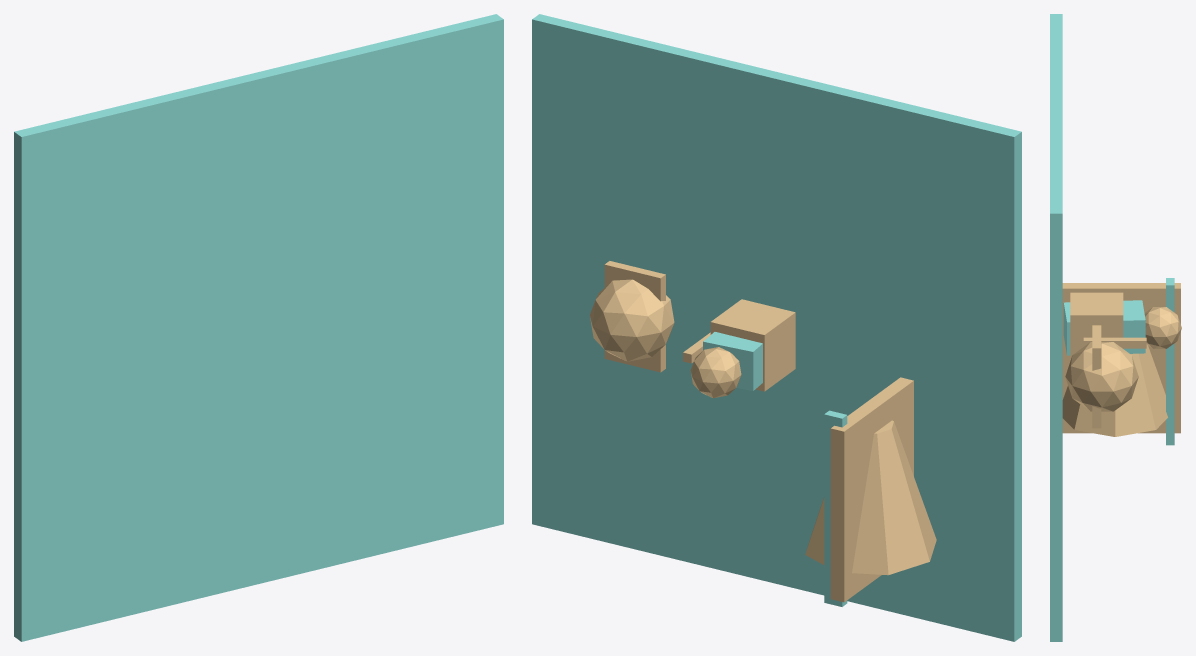
File: tombs-of-atlantis-kit.glb
3 views of the same model, side by side, from view 1: azimuth 30°, elevation 25°; view 2: azimuth 150°, elevation 25°; view 3: azimuth 270°, elevation 25° (orthographic). The views are drawn at different scales.
Parts seen in each view (by area): view 1: ENVIRONMENT_GROUND; view 2: ENVIRONMENT_GROUND, ENVIRONMENT_LANDMARK, PROFILE_ENVIRONMENT_DETAIL, OBSTACLE, PROFILE_PLAYER_DETAIL, PLAYER_HEAD, PROFILE_OBSTACLE_DETAIL, PLAYER_BODY, PROFILE_ENVIRONMENT_TRIM; view 3: ENVIRONMENT_GROUND, ENVIRONMENT_LANDMARK, OBSTACLE, PROFILE_ENVIRONMENT_DETAIL, PROFILE_PLAYER_DETAIL, PLAYER_BODY, PLAYER_HEAD, PROFILE_ENVIRONMENT_TRIM, PROFILE_OBSTACLE_DETAIL, PLAYER_TOOL.
Boxes of the visible parts, left/top/right/bottom form: ENVIRONMENT_GROUND: left=14, top=14, right=503, bottom=641; ENVIRONMENT_GROUND: left=532, top=14, right=1021, bottom=641; ENVIRONMENT_LANDMARK: left=805, top=420, right=936, bottom=575; PROFILE_ENVIRONMENT_DETAIL: left=830, top=377, right=913, bottom=602; OBSTACLE: left=590, top=279, right=674, bottom=361; PROFILE_PLAYER_DETAIL: left=710, top=299, right=795, bottom=391; PLAYER_HEAD: left=690, top=347, right=741, bottom=398; PROFILE_OBSTACLE_DETAIL: left=604, top=261, right=665, bottom=372; PLAYER_BODY: left=703, top=332, right=762, bottom=390; PROFILE_ENVIRONMENT_TRIM: left=824, top=410, right=847, bottom=606; ENVIRONMENT_GROUND: left=1050, top=14, right=1062, bottom=641; ENVIRONMENT_LANDMARK: left=1062, top=344, right=1167, bottom=436; OBSTACLE: left=1065, top=342, right=1138, bottom=411; PROFILE_ENVIRONMENT_DETAIL: left=1062, top=283, right=1180, bottom=433; PROFILE_PLAYER_DETAIL: left=1070, top=292, right=1123, bottom=360; PLAYER_BODY: left=1063, top=300, right=1145, bottom=355; PLAYER_HEAD: left=1144, top=307, right=1181, bottom=348; PROFILE_ENVIRONMENT_TRIM: left=1166, top=278, right=1174, bottom=445; PROFILE_OBSTACLE_DETAIL: left=1092, top=325, right=1101, bottom=428; PLAYER_TOOL: left=1083, top=337, right=1146, bottom=348.
Size of what is drawn, in the model's own units: 9 by 9 by 2.51.
